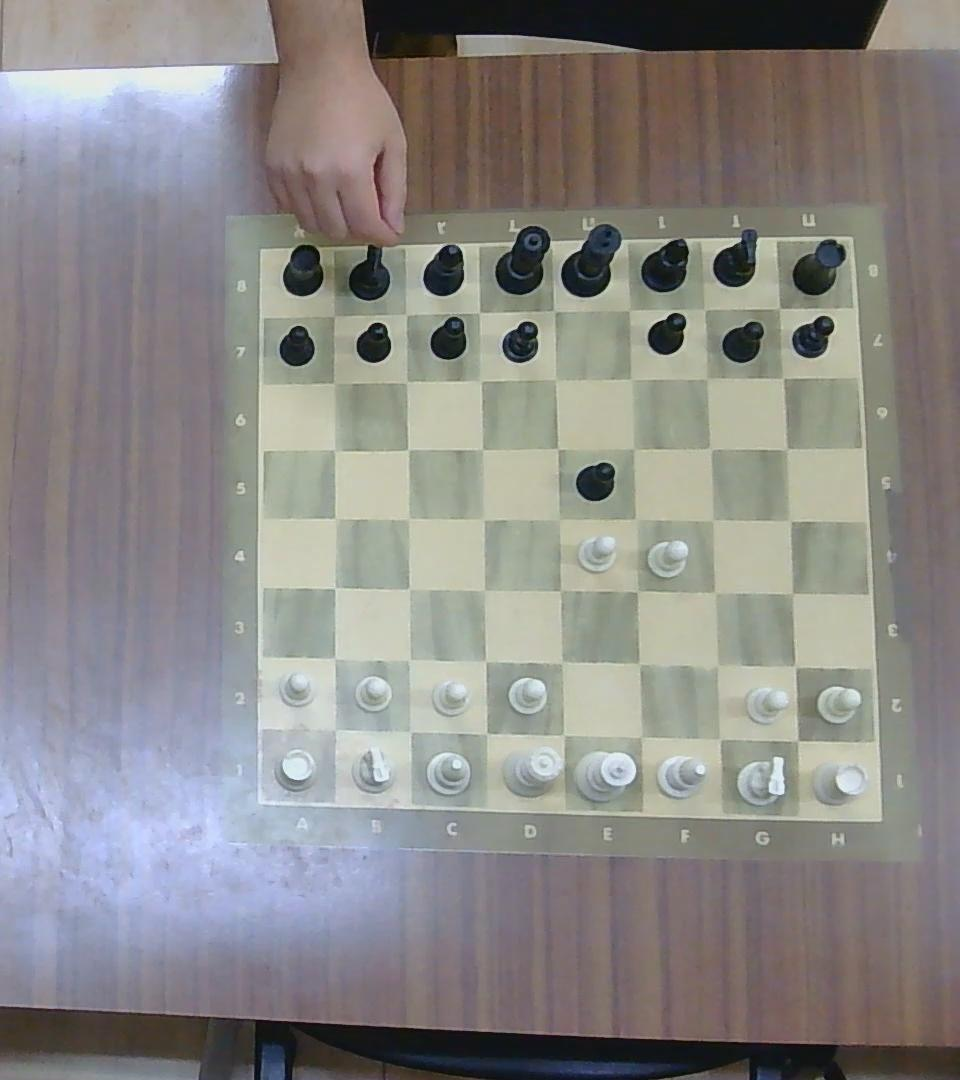xcorner: (624, 723, 662, 753), (548, 570, 576, 607), (621, 650, 655, 678), (694, 506, 727, 534), (320, 712, 351, 741), (701, 575, 731, 604), (618, 504, 650, 530), (772, 509, 806, 533), (780, 727, 814, 751), (700, 650, 729, 678), (317, 298, 343, 329), (473, 717, 502, 744), (552, 720, 582, 746), (704, 728, 734, 754), (778, 579, 808, 604), (694, 437, 729, 458), (541, 506, 570, 530), (395, 719, 425, 742), (780, 654, 811, 676), (616, 300, 644, 324), (626, 576, 650, 604), (322, 503, 346, 530), (546, 649, 574, 672), (612, 368, 644, 388), (769, 369, 801, 389), (464, 437, 494, 458), (469, 506, 495, 530), (394, 575, 422, 597), (323, 645, 348, 669), (769, 298, 795, 321), (469, 303, 493, 327), (467, 371, 495, 391), (397, 650, 425, 670), (322, 371, 346, 394), (546, 297, 568, 322), (692, 297, 717, 319), (476, 648, 497, 674), (692, 368, 719, 387), (470, 576, 493, 598), (395, 303, 415, 328), (622, 438, 647, 458), (546, 437, 568, 459), (395, 507, 420, 525), (323, 580, 345, 600), (546, 369, 569, 388), (395, 371, 417, 389), (324, 440, 343, 458), (774, 439, 796, 454), (400, 440, 414, 458)
